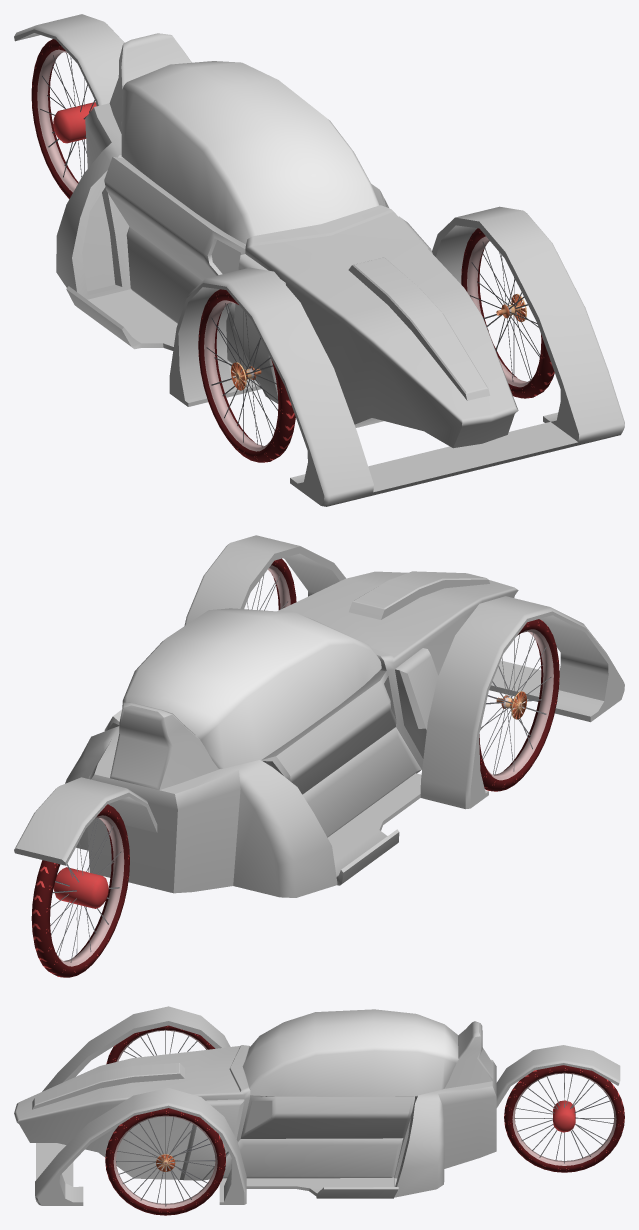
3 views of the same model, one above another, from view 1: azimuth 30°, elevation 25°; view 2: azimuth 150°, elevation 25°; view 3: azimuth 270°, elevation 25° (orthographic). The views are drawn at different scales.
Parts seen in each view (by area): view 1: cro_#1, VIDRIO, whe_#1; view 2: cro_#1, VIDRIO, whe_#1; view 3: cro_#1, VIDRIO, whe_#1.
Part boxes in pixels (x1,y1,x2,y2): cro_#1: (14, 14, 624, 506); VIDRIO: (121, 61, 379, 244); whe_#1: (31, 39, 554, 462); cro_#1: (14, 535, 624, 897); VIDRIO: (122, 608, 381, 768); whe_#1: (31, 558, 559, 977); cro_#1: (14, 1006, 620, 1205); VIDRIO: (242, 1009, 458, 1096); whe_#1: (105, 1025, 624, 1215).
Bounding box in the file's own units: 156 × 111 × 411.
